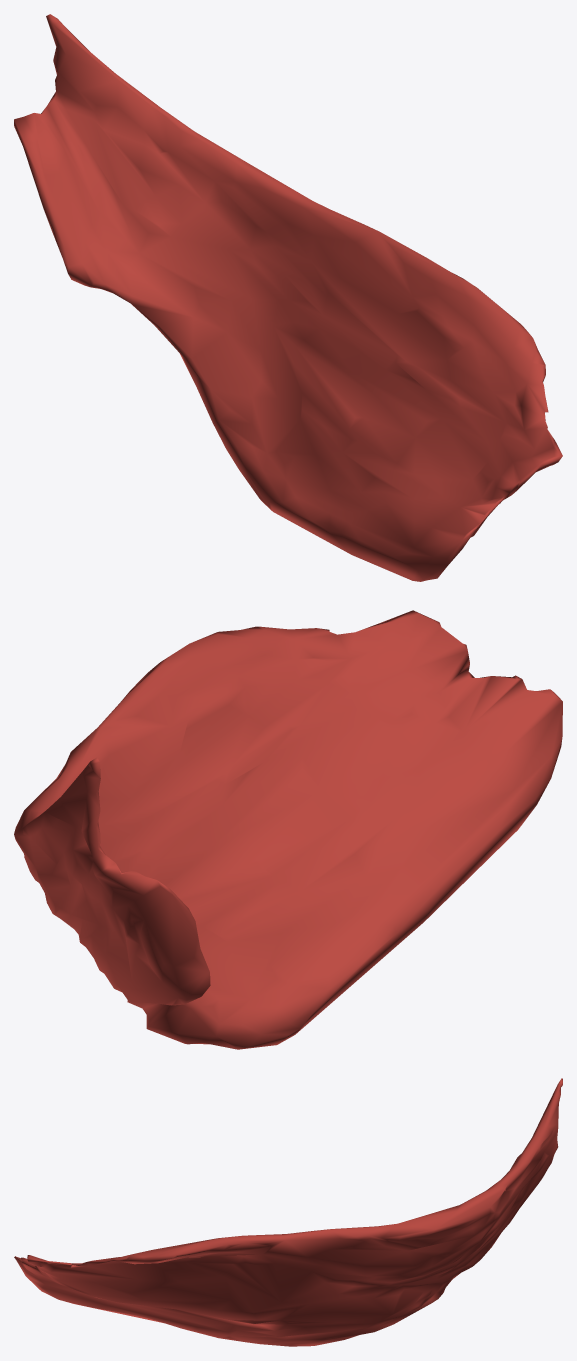
The model's file is musculos-pubococcygeus-muscle-l.glb.
3 renders of one model, top to bottom at view 1: azimuth 30°, elevation 25°; view 2: azimuth 150°, elevation 25°; view 3: azimuth 270°, elevation 25°, orthographic. The views are drawn at different scales.
Visible parts, largest first — view 1: Pubococcygeus muscle.l; view 2: Pubococcygeus muscle.l; view 3: Pubococcygeus muscle.l.
Boxes of the visible parts, bbox=[...] form: Pubococcygeus muscle.l: bbox=[14, 14, 562, 581]; Pubococcygeus muscle.l: bbox=[14, 610, 562, 1049]; Pubococcygeus muscle.l: bbox=[14, 1078, 562, 1346].
Bounding box in the file's own units: 0.0333 × 0.0483 × 0.0936.
